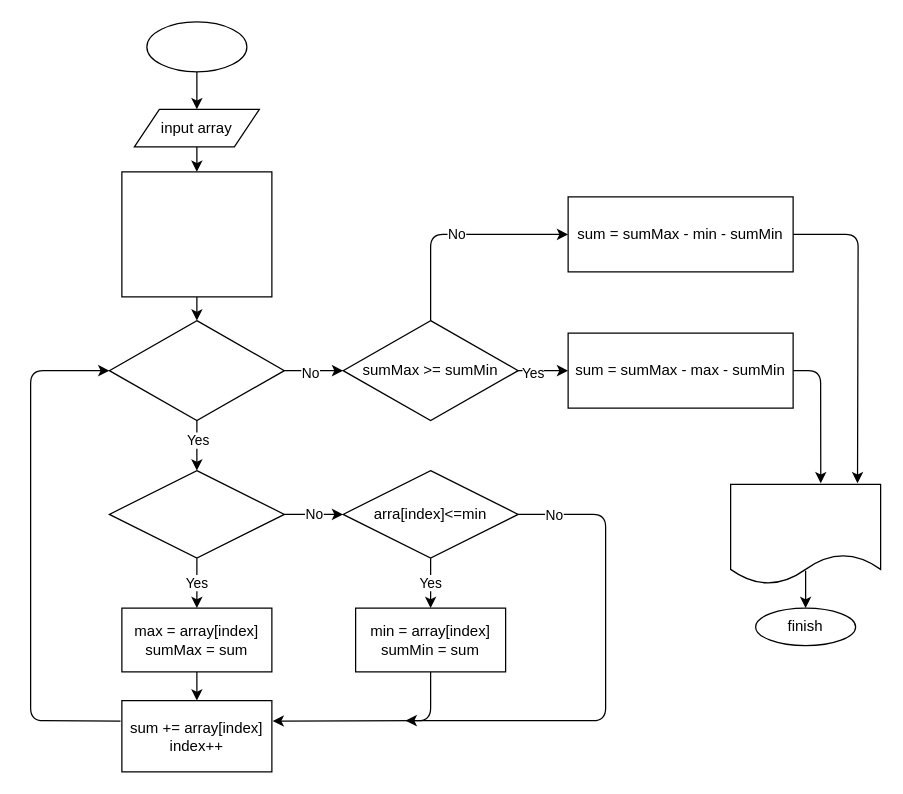
This 903x794 diagram has some shape labels left out. The centre of each missing label's shape, as x and y in pixels:
array[index] >= max: point (196, 513)
index < array.length: point (196, 370)
index = 0 max = array[0] min = array[0] sumMin = 0 sumMax = 0 sum = 0: point (196, 234)
print sum: point (805, 533)
start: point (196, 46)
